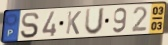2: (130, 6, 149, 33)
4: (41, 9, 59, 38)
9: (112, 6, 128, 34)
K: (65, 11, 82, 36)
S: (19, 11, 41, 39)
U: (83, 7, 107, 36)
